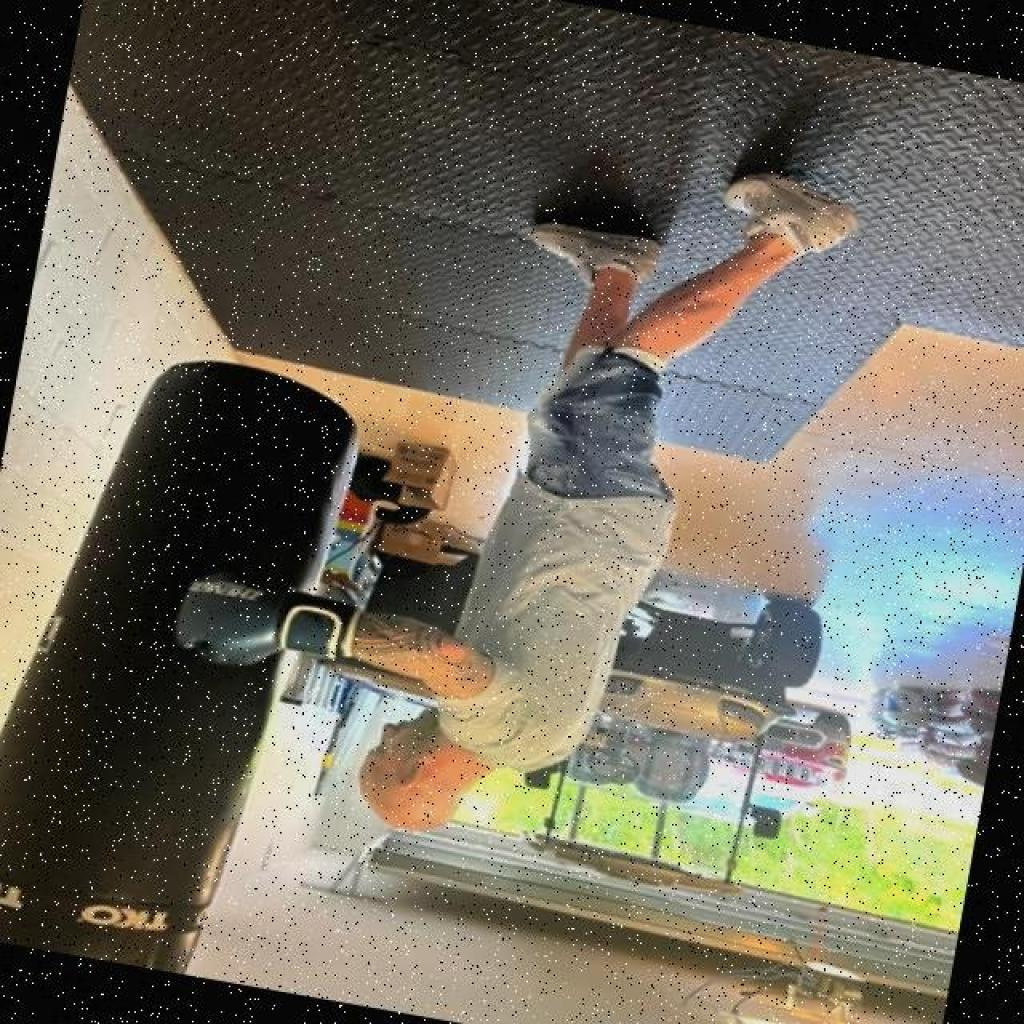hook: (109, 522, 616, 875)
